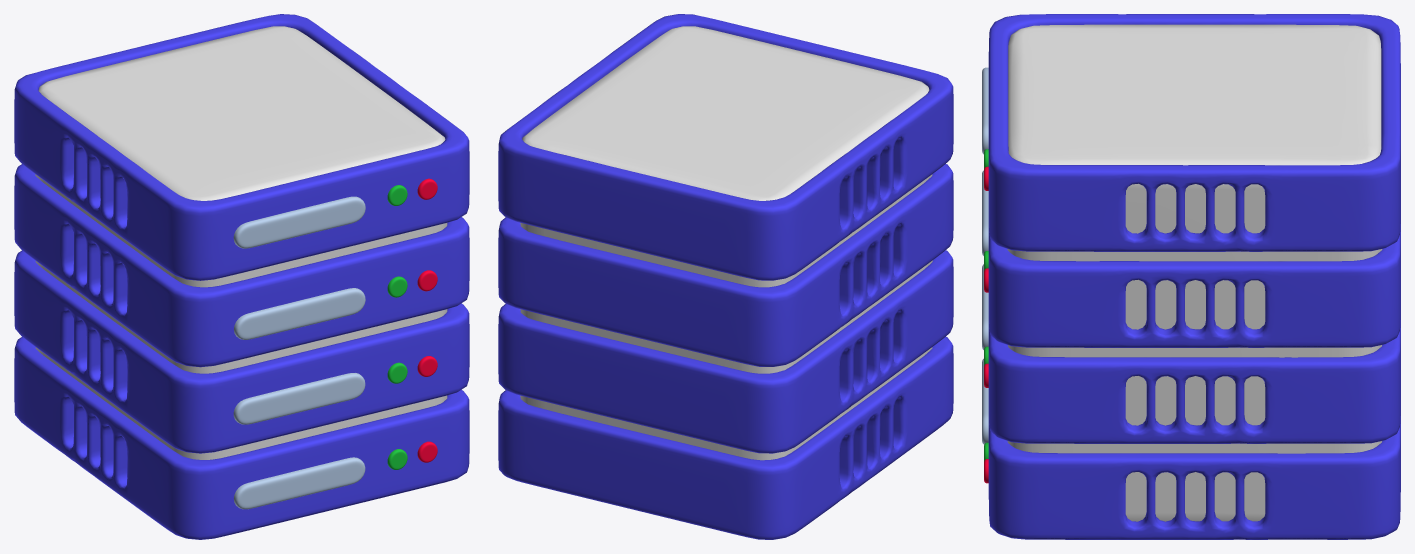
File: cloud_2.glb
The picture shows the model from 3 angles, left to right: view 1: azimuth 30°, elevation 25°; view 2: azimuth 150°, elevation 25°; view 3: azimuth 270°, elevation 25°; orthographic projection. The views are drawn at different scales.
Parts seen in each view (by area): view 1: Retopo_Plane.001, Retopo_Plane.048, Retopo_Circle.064, Retopo_Cylinder.026, Retopo_Cylinder.030; view 2: Retopo_Plane.001, Retopo_Plane.048; view 3: Retopo_Plane.001, Retopo_Plane.048, Retopo_Circle.064.
Part boxes in pixels (<box>): Retopo_Plane.001: <box>14,14,469,539</box>; Retopo_Plane.048: <box>35,26,447,459</box>; Retopo_Circle.064: <box>233,196,365,509</box>; Retopo_Cylinder.026: <box>417,178,437,462</box>; Retopo_Cylinder.030: <box>387,185,407,469</box>; Retopo_Plane.001: <box>498,14,953,539</box>; Retopo_Plane.048: <box>520,26,932,460</box>; Retopo_Plane.001: <box>988,14,1400,539</box>; Retopo_Plane.048: <box>1007,24,1382,521</box>; Retopo_Circle.064: <box>982,67,988,444</box>.
Bounding box in the file's own units: 28.77 × 31.1 × 31.91.
